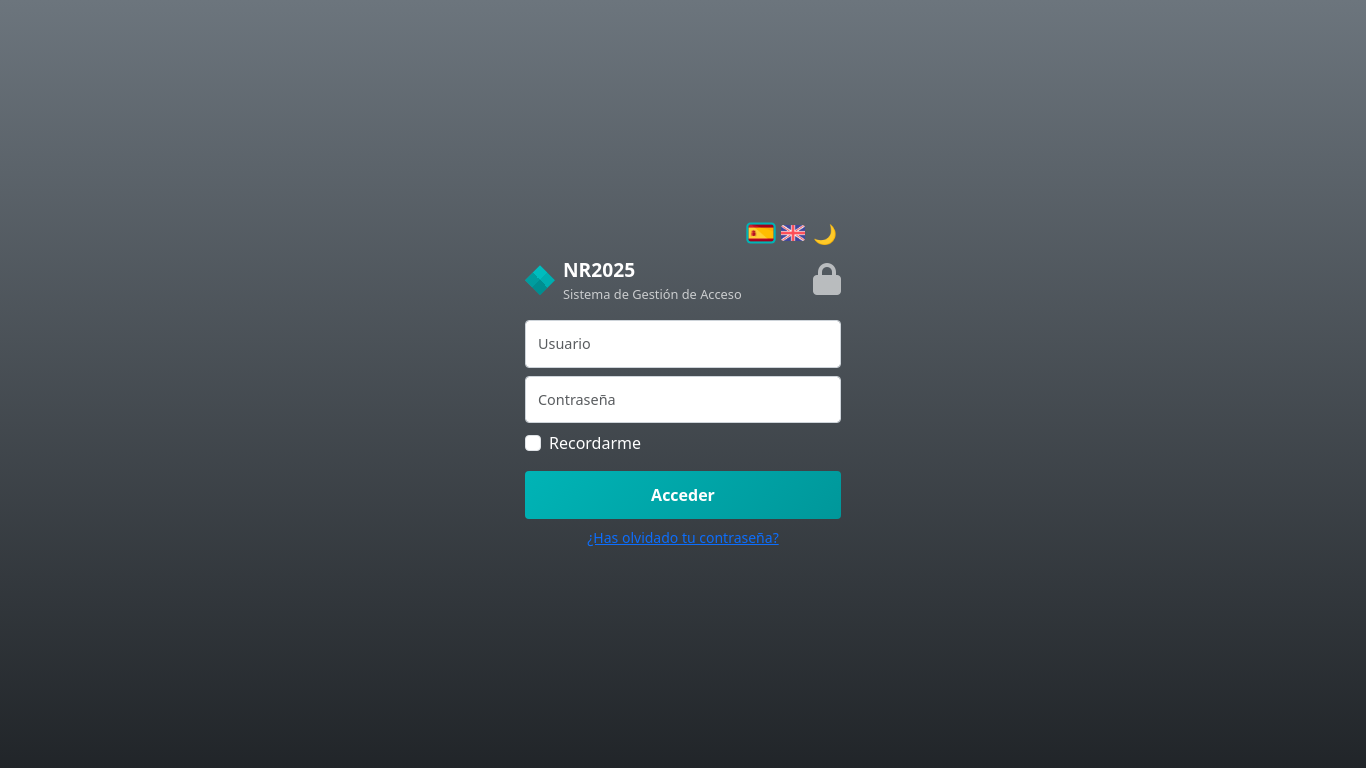
Login.vue › cambia el idioma al pulsar el botón de idioma
Expected: the field with placeholder "Usuario" is shown, top-left (525, 320), bottom-right (841, 368)
What coordinates should you click on to do the following:
click the button titled "Inglés"
I would click on:
 (793, 232)
Its box is top-left (781, 224), bottom-right (805, 240).
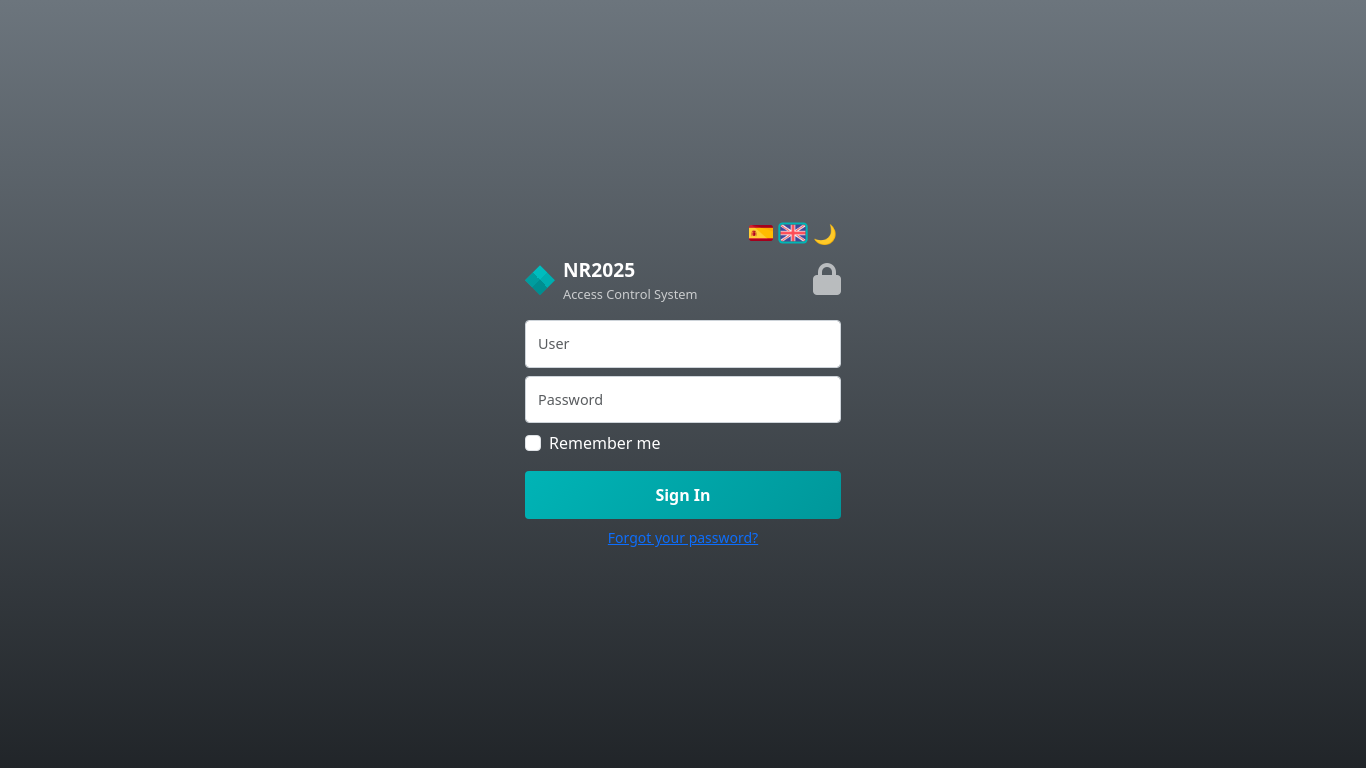
Now the field with placeholder "User" is shown, box top-left (525, 320), bottom-right (841, 368)
